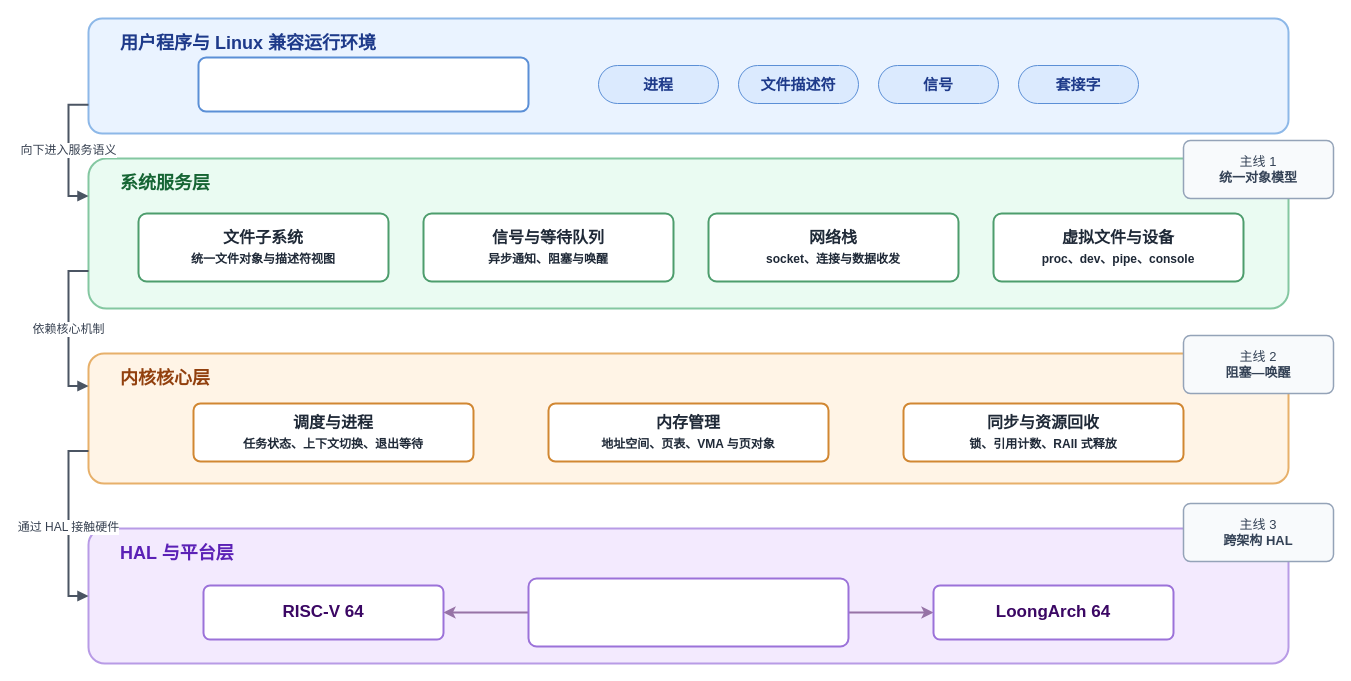
Image size: 1351x681. Some labels were removed from this diagram. The centre of each missing label's shape, as x and y in pixels:
"Trap / IRQ / Paging / Timer 平台差异收敛到统一 HAL 接口" belongs at (688,612).
"应用 / Shell / 测试程序 面向 Linux 语义运行，而非绑定具体架构" belongs at (363,84).
